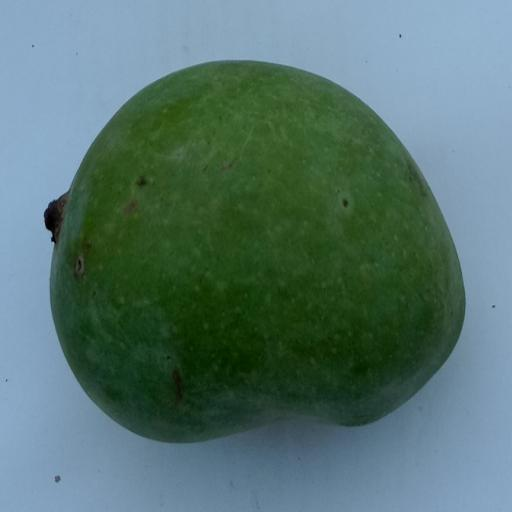mango-unripe: (25, 35, 493, 479)
